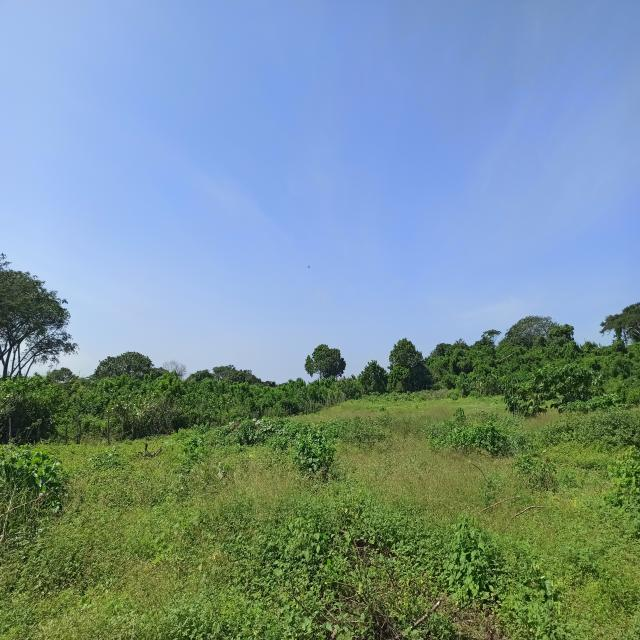Maleza: (307, 422, 455, 570), (415, 511, 599, 630), (282, 548, 508, 637), (197, 503, 344, 635), (104, 430, 226, 587), (30, 526, 205, 633), (521, 358, 640, 508), (547, 473, 640, 640), (4, 373, 146, 462), (0, 419, 82, 568), (365, 374, 491, 461), (212, 403, 336, 479), (427, 405, 512, 478)
